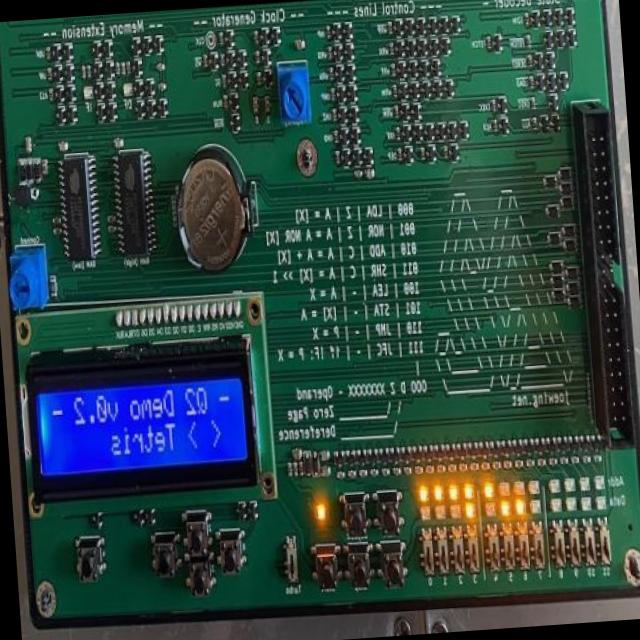IC: (111, 146, 156, 262), (60, 152, 100, 264)
LED: (594, 474, 606, 492), (448, 502, 460, 520), (313, 504, 325, 522), (483, 502, 496, 518), (416, 489, 429, 504), (526, 480, 538, 496), (578, 477, 590, 492), (580, 496, 592, 511), (512, 480, 523, 496), (594, 496, 606, 510), (434, 507, 446, 521), (465, 502, 475, 518), (498, 482, 509, 496), (483, 483, 493, 498), (463, 483, 473, 498), (433, 486, 443, 501), (565, 498, 575, 512), (499, 500, 509, 514), (420, 506, 430, 520), (528, 502, 540, 513), (564, 481, 574, 494), (549, 479, 559, 492), (448, 487, 458, 500), (515, 501, 524, 515), (550, 500, 560, 512), (83, 86, 92, 98), (123, 84, 132, 95)
capacitor: (263, 97, 272, 116), (252, 97, 259, 120), (24, 134, 31, 154), (320, 465, 330, 478), (292, 449, 302, 462), (41, 157, 48, 175), (114, 136, 124, 148), (319, 450, 328, 463), (58, 140, 68, 150), (296, 40, 306, 50), (365, 169, 375, 179)
connector: (576, 95, 638, 458)
diode: (560, 192, 574, 210), (548, 230, 562, 248), (563, 238, 576, 256), (543, 173, 556, 190), (546, 204, 559, 218), (562, 224, 576, 237), (550, 261, 564, 274), (550, 275, 564, 288), (568, 294, 582, 307), (550, 290, 564, 302), (303, 452, 310, 475), (559, 167, 570, 181), (566, 267, 580, 278), (26, 160, 33, 182), (19, 161, 26, 183), (568, 280, 580, 292), (312, 451, 318, 475), (34, 158, 40, 180), (560, 182, 570, 194)
potentiometer: (2, 241, 50, 316), (274, 61, 312, 127)
resistor: (522, 10, 530, 30), (49, 278, 57, 296), (525, 54, 533, 72), (480, 459, 490, 472), (448, 462, 457, 476), (492, 117, 499, 135), (485, 36, 493, 51), (396, 147, 404, 161), (418, 148, 425, 164), (536, 459, 546, 470), (492, 462, 502, 473), (469, 462, 479, 473), (380, 467, 390, 478), (286, 460, 292, 478), (524, 33, 531, 48), (594, 451, 602, 464), (502, 460, 512, 470), (346, 470, 356, 480), (107, 225, 116, 236), (336, 470, 345, 481), (386, 19, 393, 33), (392, 105, 399, 119), (333, 148, 339, 164), (222, 92, 228, 108), (51, 224, 60, 234), (157, 80, 166, 90), (292, 464, 298, 479), (570, 456, 580, 465), (548, 458, 558, 467), (458, 462, 467, 472), (360, 471, 370, 480), (218, 31, 223, 49), (560, 456, 568, 467), (326, 24, 332, 38), (330, 108, 336, 122), (530, 96, 537, 108), (392, 64, 398, 78), (391, 84, 398, 96), (354, 170, 363, 179), (424, 466, 434, 474), (221, 70, 226, 86), (80, 66, 86, 78), (156, 62, 164, 71), (526, 459, 534, 468), (436, 464, 444, 473), (202, 54, 208, 66), (328, 68, 334, 80), (330, 89, 336, 101), (388, 43, 394, 55), (394, 126, 400, 138), (443, 148, 449, 160), (298, 460, 303, 474), (582, 457, 592, 464), (327, 46, 332, 60), (532, 116, 537, 130), (256, 72, 262, 83), (404, 466, 412, 474), (220, 52, 224, 68), (53, 214, 59, 224), (44, 48, 50, 58), (114, 64, 120, 74), (254, 30, 258, 45), (255, 50, 260, 62), (332, 130, 338, 140), (48, 86, 52, 100), (86, 64, 90, 78), (515, 460, 522, 468), (394, 468, 401, 476), (370, 470, 377, 478), (492, 97, 496, 111), (46, 67, 51, 78), (119, 63, 124, 74), (109, 214, 115, 222), (126, 63, 130, 75), (414, 467, 422, 473), (530, 75, 534, 86)
transistor: (208, 51, 219, 78), (565, 5, 577, 27), (95, 101, 106, 124), (388, 444, 400, 465), (489, 440, 502, 459), (378, 444, 389, 466), (352, 148, 363, 170), (341, 147, 352, 169), (501, 440, 514, 458), (345, 448, 358, 466), (492, 33, 503, 54), (414, 444, 426, 463), (400, 443, 412, 462), (530, 8, 541, 28), (66, 104, 78, 122), (534, 436, 546, 454), (444, 443, 456, 461), (434, 443, 446, 461), (423, 444, 435, 462), (356, 448, 368, 466), (545, 438, 558, 454), (513, 440, 525, 457), (467, 441, 479, 458), (334, 451, 346, 468), (534, 50, 544, 70), (559, 70, 568, 92), (460, 119, 469, 141), (230, 110, 239, 132), (524, 438, 536, 454), (248, 501, 257, 522), (441, 36, 450, 57), (343, 19, 352, 40), (338, 105, 347, 126), (260, 27, 269, 48), (457, 442, 468, 459), (332, 18, 340, 41), (558, 436, 568, 454), (368, 446, 378, 464), (418, 39, 428, 57), (350, 104, 360, 122), (364, 148, 374, 166), (228, 70, 237, 90), (544, 5, 552, 27), (53, 66, 64, 82), (422, 80, 430, 102), (104, 39, 113, 58), (64, 41, 73, 60), (106, 79, 115, 98), (57, 104, 66, 123), (480, 442, 490, 459), (238, 50, 248, 67), (554, 8, 562, 29), (144, 37, 153, 55), (94, 60, 103, 78), (65, 64, 74, 82), (95, 82, 104, 100), (158, 98, 167, 116), (147, 100, 156, 118), (409, 60, 418, 78), (437, 122, 446, 140), (404, 146, 413, 164), (347, 64, 356, 82), (336, 84, 345, 102), (352, 126, 361, 144), (540, 112, 548, 132), (154, 36, 164, 52), (144, 78, 154, 94), (428, 16, 436, 36), (340, 126, 348, 146), (226, 28, 234, 48), (228, 48, 235, 70), (93, 511, 102, 528), (105, 61, 114, 78), (452, 17, 461, 34), (394, 20, 403, 37), (402, 125, 411, 142), (449, 144, 458, 161), (568, 29, 576, 48), (136, 509, 144, 528), (136, 99, 144, 118), (536, 72, 544, 91), (420, 58, 428, 77), (446, 77, 454, 96), (348, 83, 356, 102), (590, 435, 600, 450), (579, 437, 589, 452), (556, 30, 564, 48), (548, 72, 556, 90), (550, 94, 558, 112), (237, 503, 245, 521), (146, 510, 154, 528), (132, 37, 140, 55), (53, 42, 61, 60), (108, 104, 117, 120), (499, 97, 507, 115), (418, 17, 426, 35), (406, 18, 414, 36), (430, 37, 438, 55), (434, 82, 442, 100), (398, 82, 406, 100), (449, 122, 457, 140), (426, 122, 434, 140), (414, 124, 422, 142), (427, 144, 435, 162), (346, 43, 354, 61), (336, 65, 344, 83), (272, 26, 280, 44), (240, 70, 248, 88), (229, 90, 237, 108), (569, 438, 579, 452), (135, 78, 143, 95), (66, 85, 74, 102), (396, 40, 405, 55), (545, 31, 553, 47), (546, 52, 554, 68), (551, 115, 559, 131), (92, 42, 100, 58), (56, 86, 64, 102), (440, 15, 448, 31), (398, 62, 406, 78), (411, 84, 419, 100), (334, 44, 342, 60), (501, 117, 508, 135), (414, 102, 421, 120), (402, 103, 409, 121), (264, 68, 271, 86), (262, 49, 270, 64), (133, 60, 140, 76), (432, 60, 438, 76), (410, 40, 416, 55)
